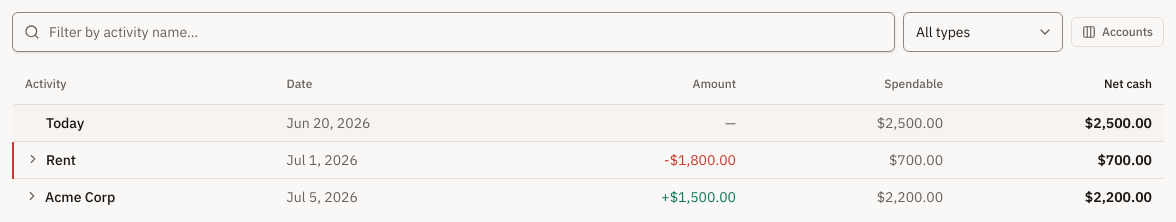
Test: ProjectedActivityTable › filters by activity kind via the type select (yequ)
Select "Income" in the dropdown named "filter by activity type". click: (983, 32)
box: [903, 12, 1063, 52]
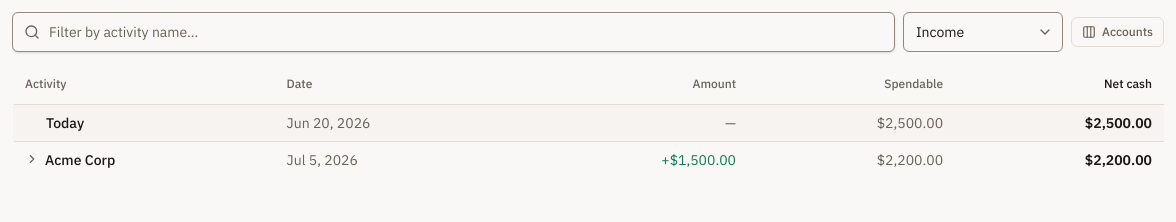
Expected: the text "Acme Corp" is shown, [45, 150, 115, 170]
Result: the button "Rent" is gone
